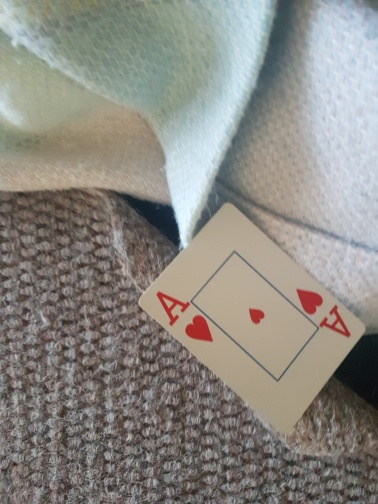ace: (138, 205, 364, 439)
